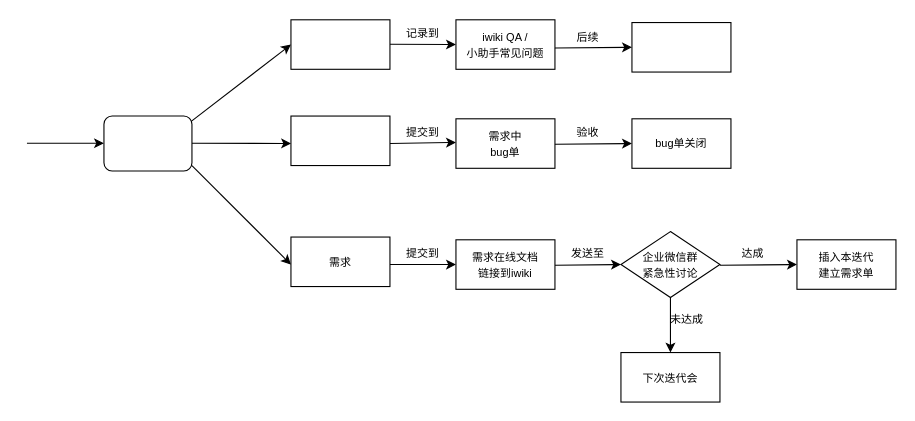
Image size: 915x421. Some labels were removed from this diagram. The centre of each missing label's shape, as x and y in pixels:
"bug" goes at point 340,140.
"常见问题" goes at point 340,44.
"用户反馈问题" goes at point 147,143.
"聚类可搜索" goes at point 681,46.
